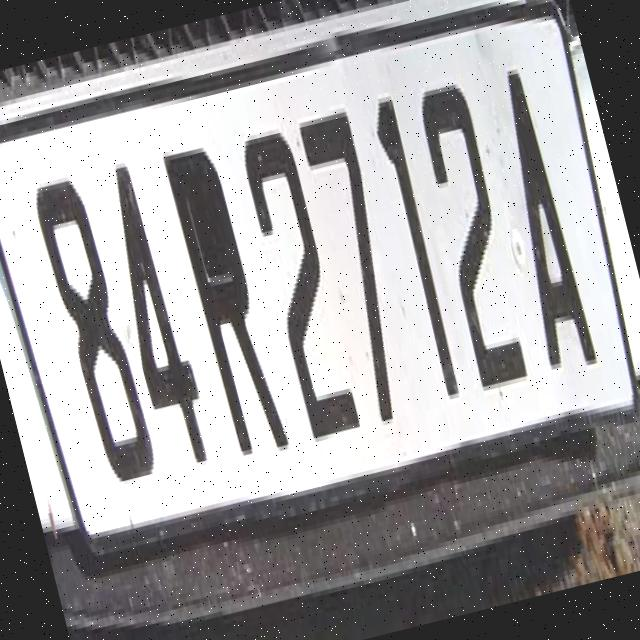Autre: (0, 19, 640, 563)
